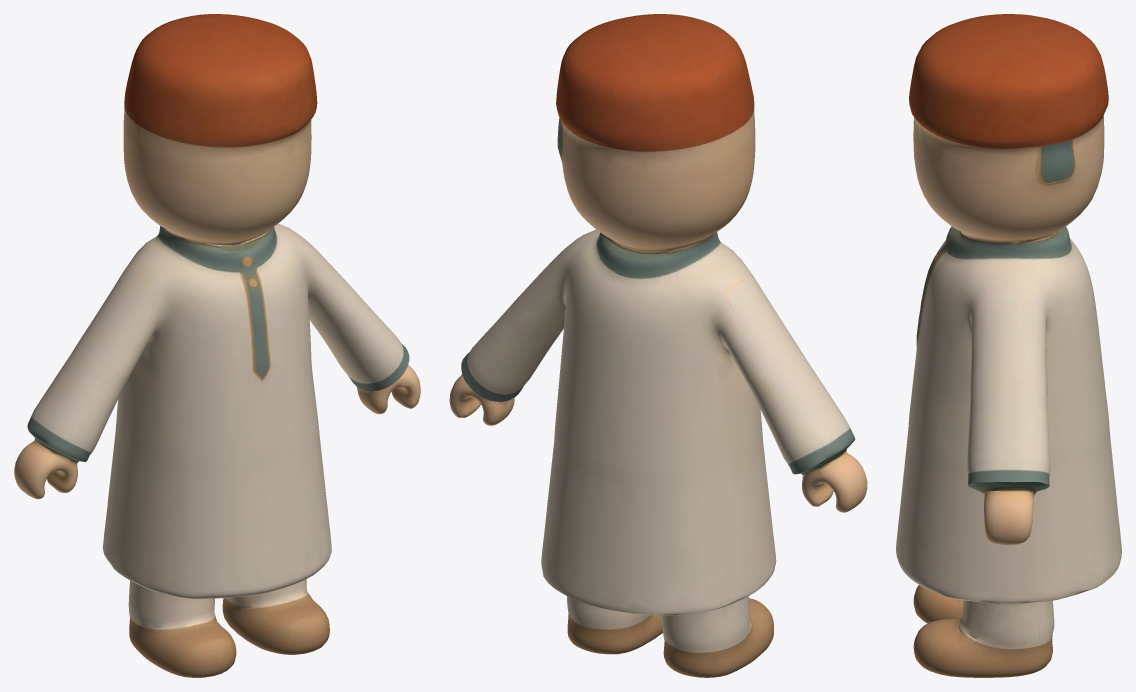
Rendered from Meshy_AI_model.glb.
The picture shows the model from 3 angles, left to right: view 1: azimuth 30°, elevation 25°; view 2: azimuth 150°, elevation 25°; view 3: azimuth 270°, elevation 25°; orthographic projection. The views are drawn at different scales.
Visible parts, largest first — view 1: Mesh0; view 2: Mesh0; view 3: Mesh0.
Part boxes in pixels (x1,y1,x2,y2): Mesh0: (14,14,420,677); Mesh0: (449,14,867,677); Mesh0: (896,14,1121,677).
Size of the model in its own units: 1.31 by 1.9 by 0.6394.
Materials: 1 (1 with a texture image).
